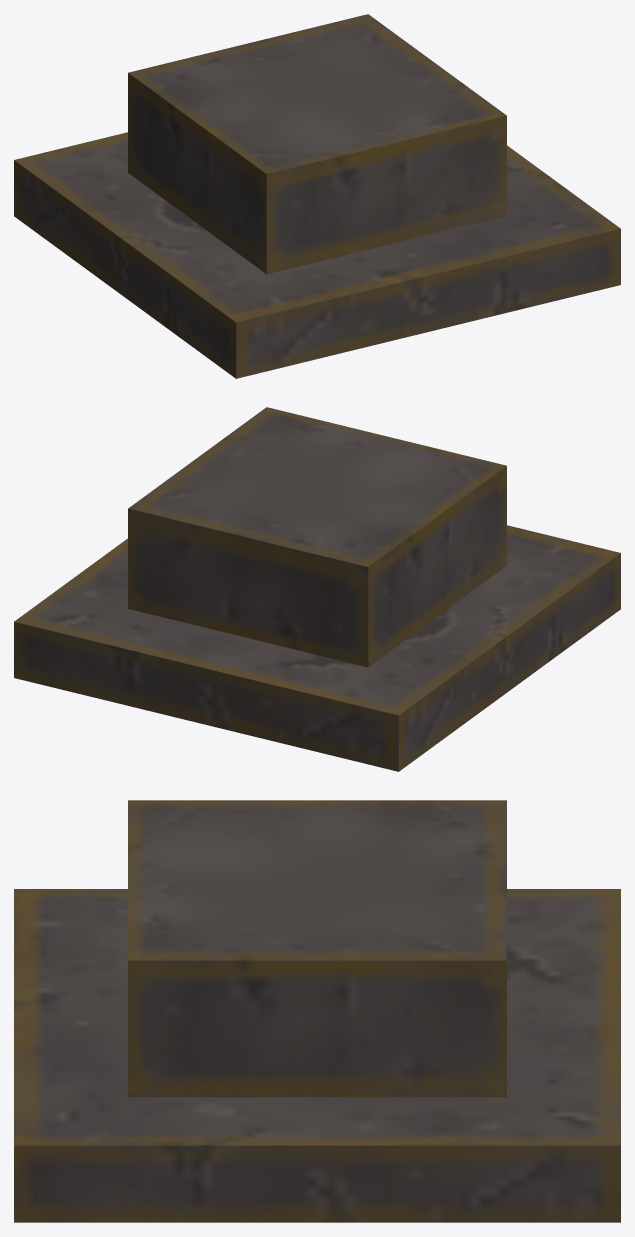
File: C_stoneHolder.fbx
3 renders of one model, top to bottom at view 1: azimuth 30°, elevation 25°; view 2: azimuth 150°, elevation 25°; view 3: azimuth 270°, elevation 25°, orthographic. The views are drawn at different scales.
Parts seen in each view (by area): view 1: pCube10; view 2: pCube10; view 3: pCube10.
Part boxes in pixels (<box>): pCube10: <box>14,14,620,378</box>; pCube10: <box>14,407,620,771</box>; pCube10: <box>14,800,620,1222</box>.
Bounding box in the file's own units: 613 × 238 × 613.
